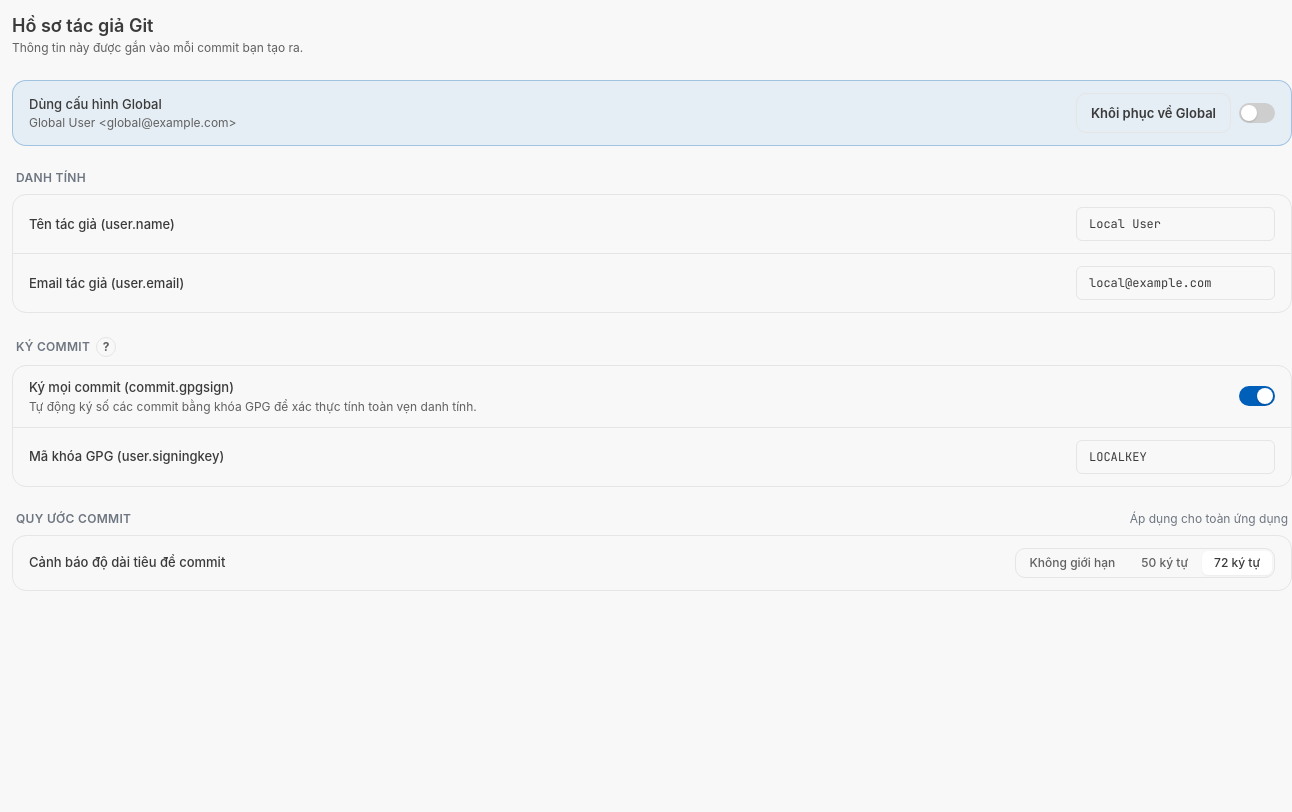
Test: GitProfileTab › hides the save bar after clearing an overridden signing key in repo scope
The width and height of the screenshot is (1292, 812).
Clear the field showing "LOCALKEY". click: coordinates (1176, 457)
box: [1076,440,1275,474]
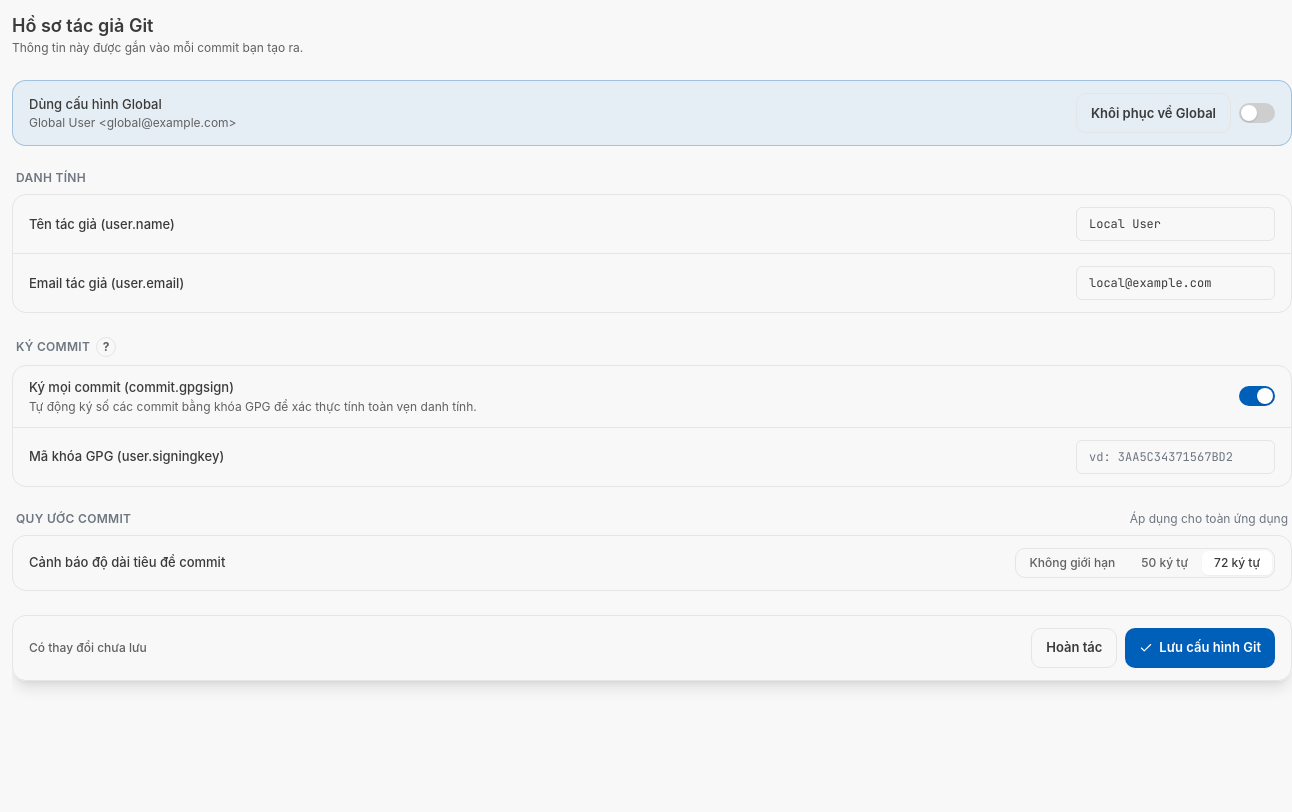
Click the button with test id "save-profile-btn". click: coordinates (1200, 648)
box: [1125,628,1275,668]
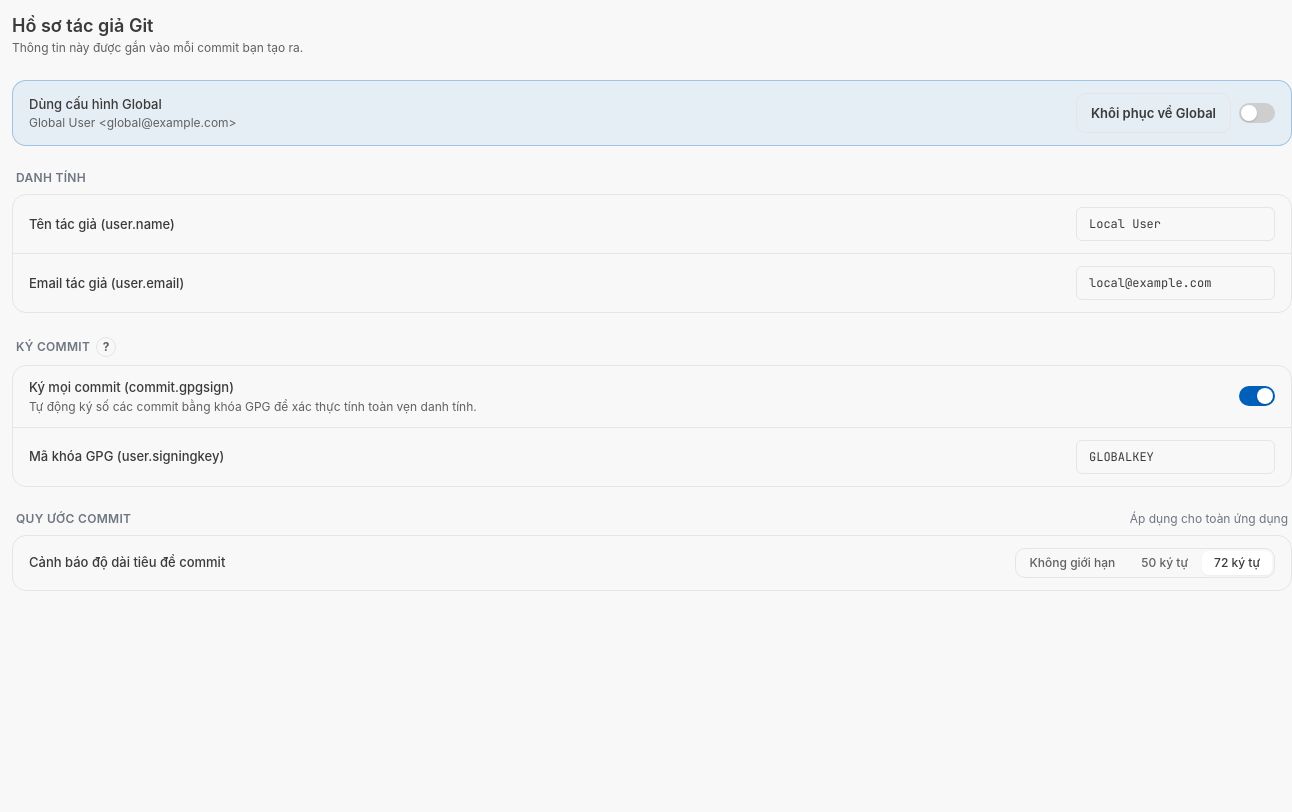
Check: the button with test id "save-profile-btn" is gone
